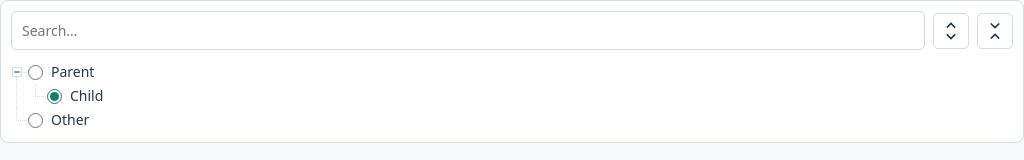
Test: toggles individual branches while searching without changing the selected category
Type "Child" into the search field at (468, 30), box 11,11 -> 925,50
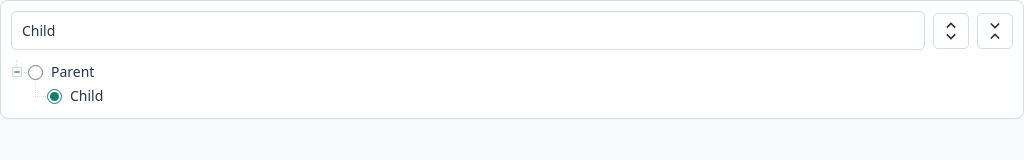
Click the button named "Collapse Parent" at (17, 72), box 12,67 -> 22,77
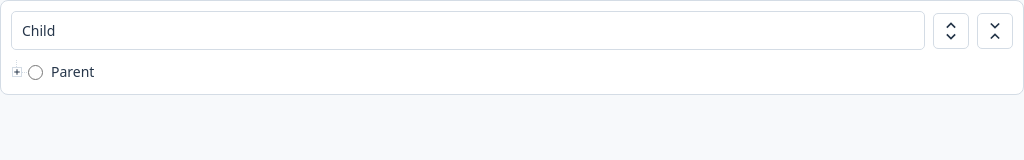
Click the button named "Expand Parent" at (17, 72), box 12,67 -> 22,77
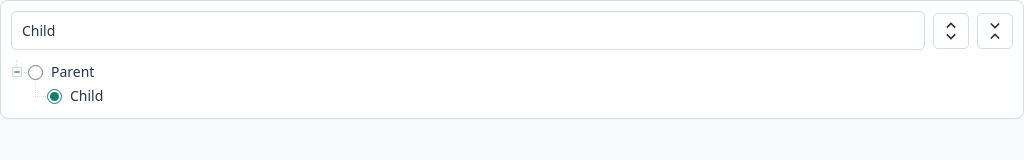
Expected: the radio button labelled "Child" is checked, 47,88 -> 62,104
